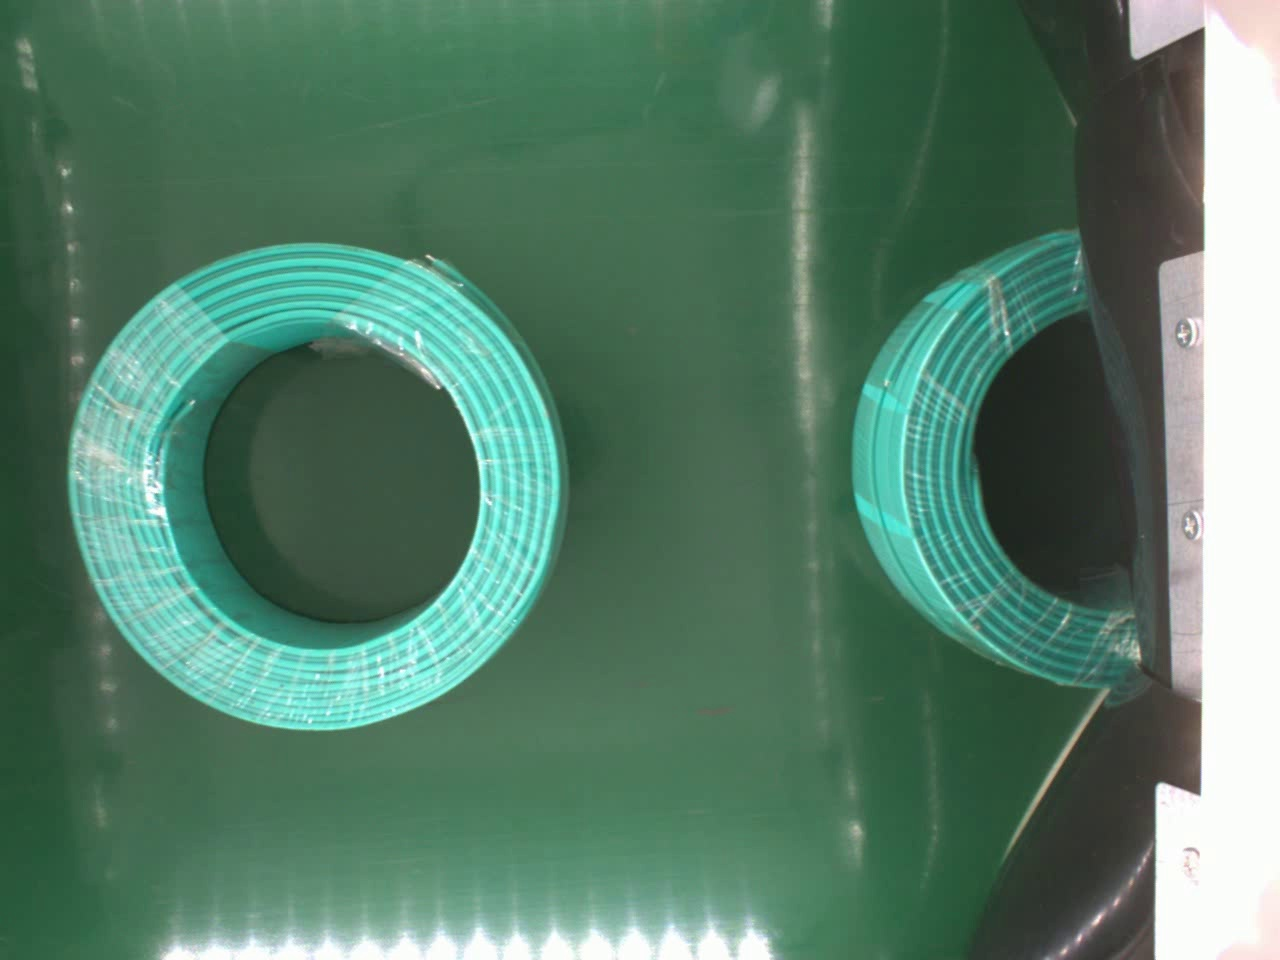green: (69, 241, 571, 735), (847, 214, 1139, 690)
